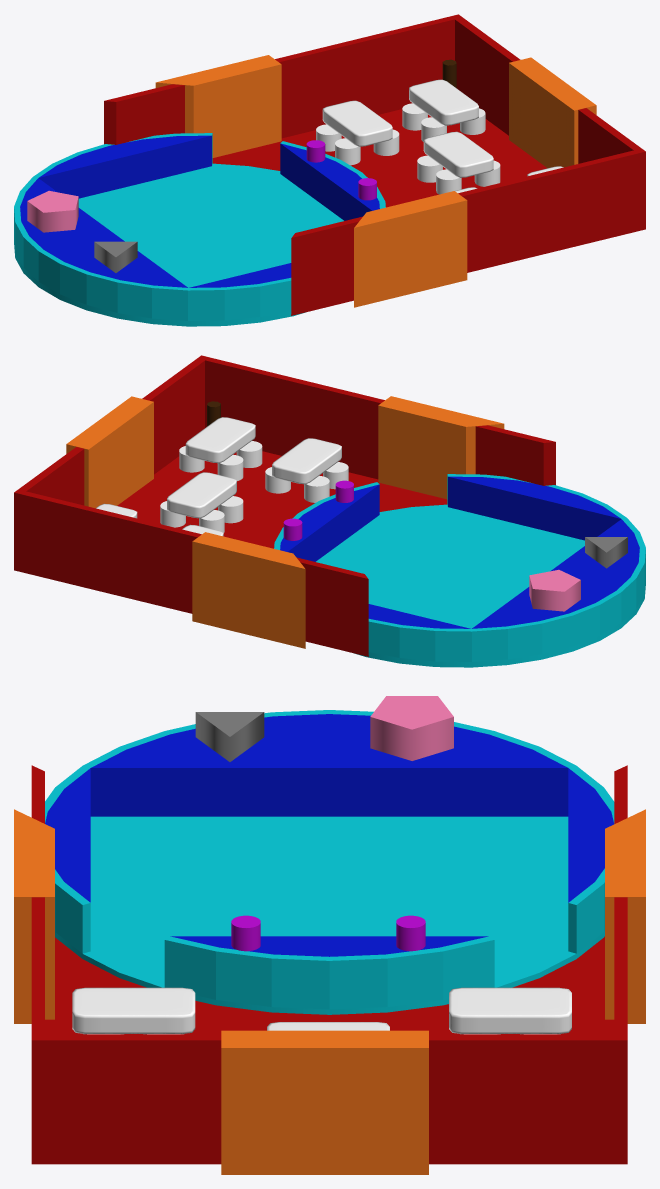
Rendered from 3d map design.fbx.
The picture shows the model from 3 angles, top to bottom: view 1: azimuth 30°, elevation 25°; view 2: azimuth 150°, elevation 25°; view 3: azimuth 270°, elevation 25°; orthographic projection. The views are drawn at different scales.
Visible parts, largest first — view 1: Cylinder002; view 2: Cylinder002; view 3: Cylinder002.
Part boxes in pixels (x1,y1,x2,y2): Cylinder002: (14,14,645,326); Cylinder002: (14,355,645,667); Cylinder002: (14,696,645,1174).
Size of the model in its own units: 476 by 69.33 by 313.
